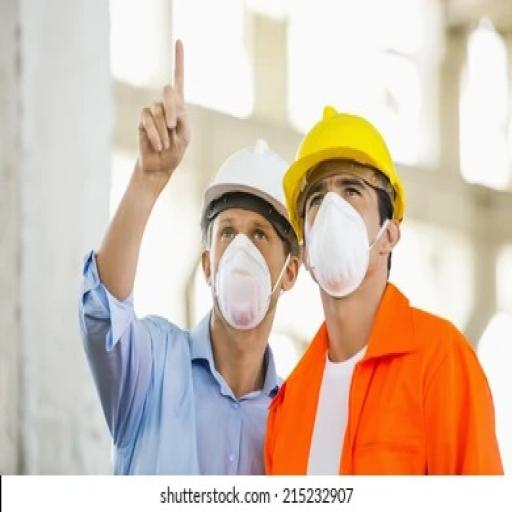mask: (302, 198, 379, 310), (204, 235, 275, 330)
